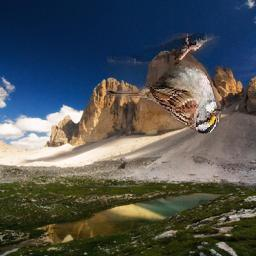Sparrow: (107, 34, 221, 135)
